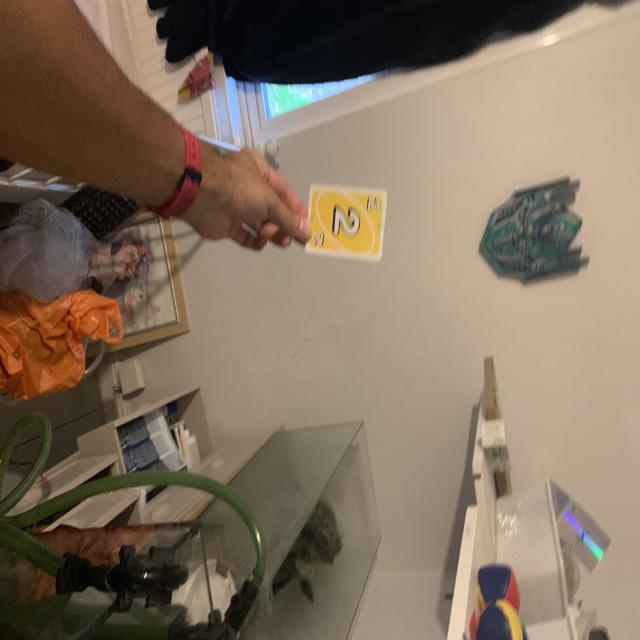lyellow-2: (361, 193, 384, 219)
